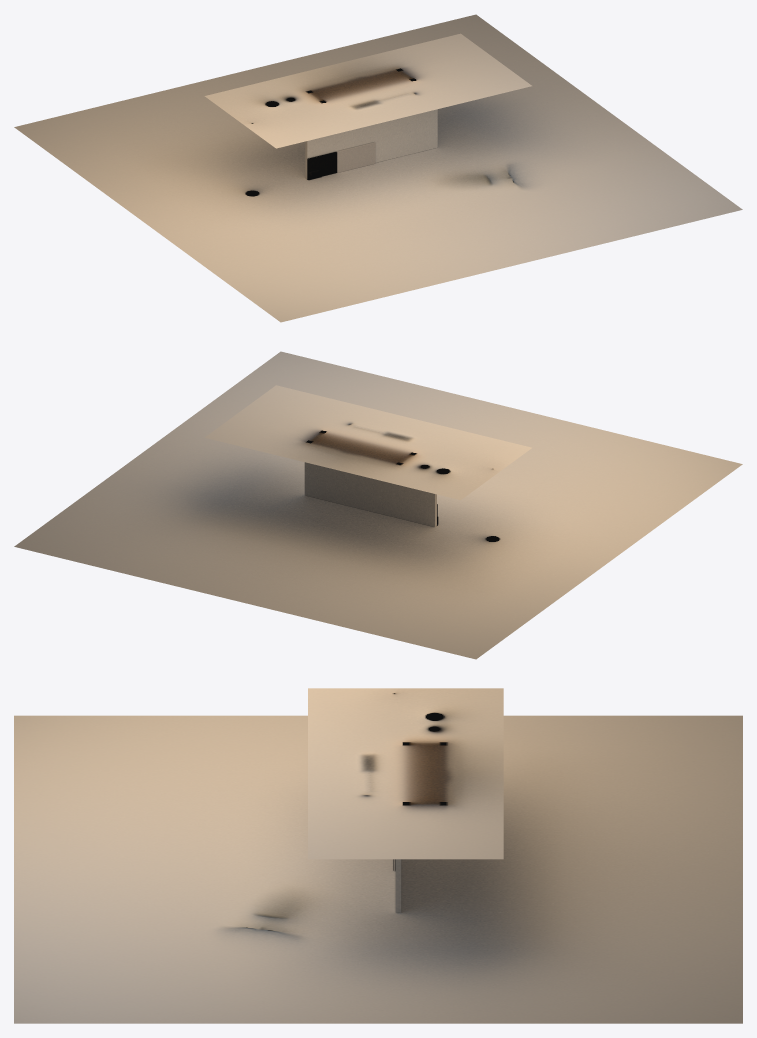
File: jianwei_baked_environment.glb
3 views of the same model, one above another, from view 1: azimuth 30°, elevation 25°; view 2: azimuth 150°, elevation 25°; view 3: azimuth 270°, elevation 25° (orthographic). The views are drawn at different scales.
Visible parts, largest first — view 1: JianweiBakedEnvironment; view 2: JianweiBakedEnvironment; view 3: JianweiBakedEnvironment.
Boxes of the visible parts, x1=… form: JianweiBakedEnvironment: x1=14, y1=14, x2=742, y2=322; JianweiBakedEnvironment: x1=14, y1=351, x2=742, y2=659; JianweiBakedEnvironment: x1=14, y1=688, x2=742, y2=1023.
Size of the model in its own units: 6.4 by 0.929 by 6.4.
Materials: 1 (1 with a texture image).
